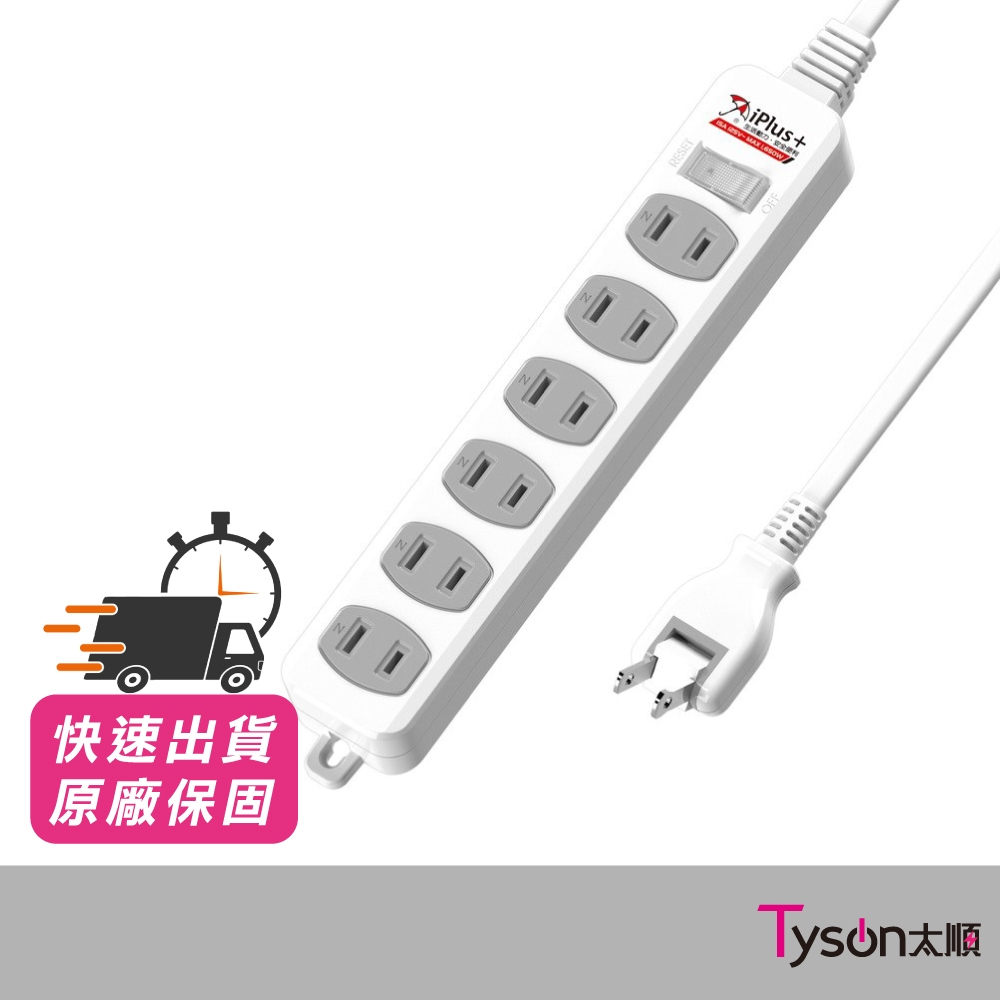socket: (278, 18, 877, 777)
